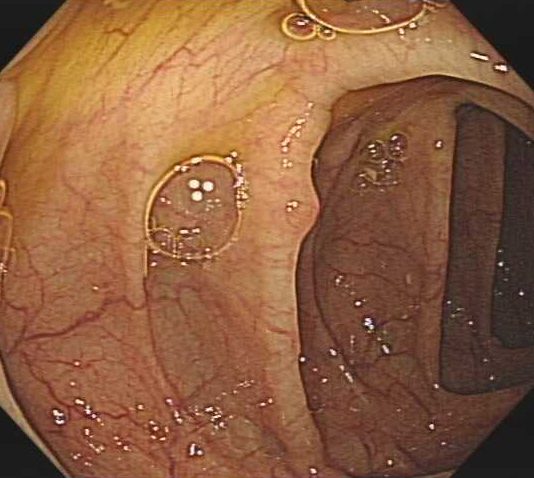others: (264, 175, 323, 239)
